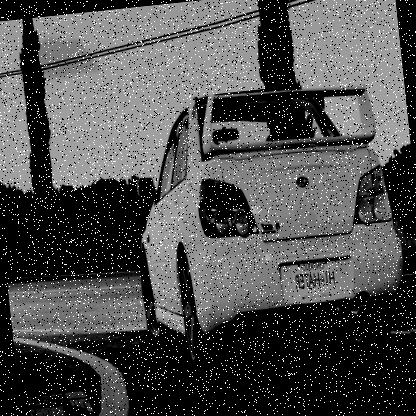Car: (122, 77, 412, 382)
